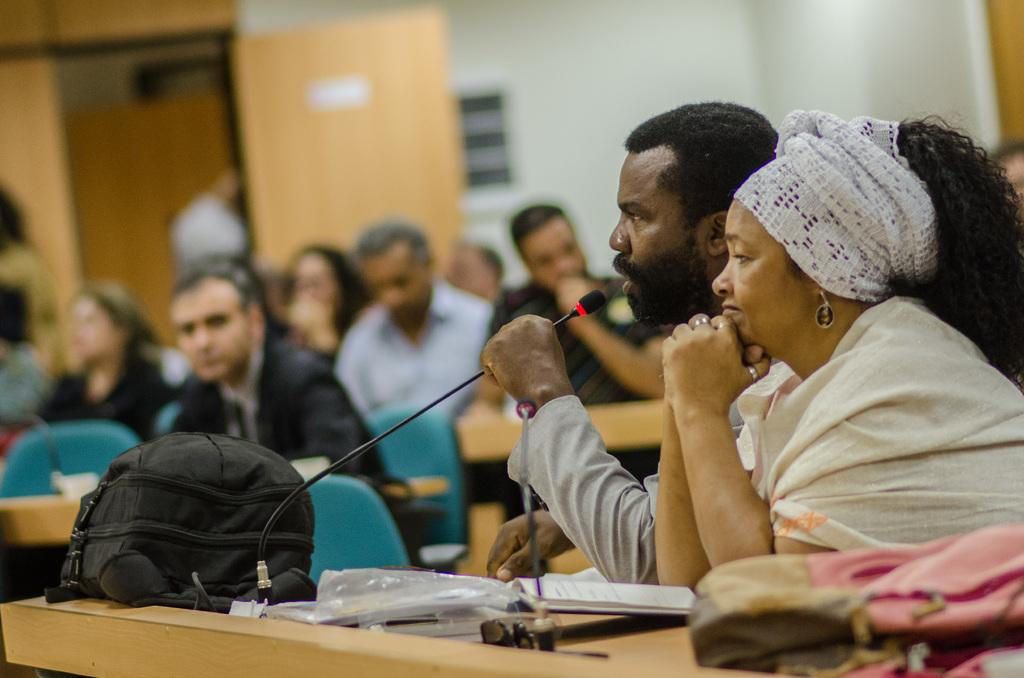Luggage-and-bags: (694, 526, 1023, 677), (44, 430, 314, 602)
